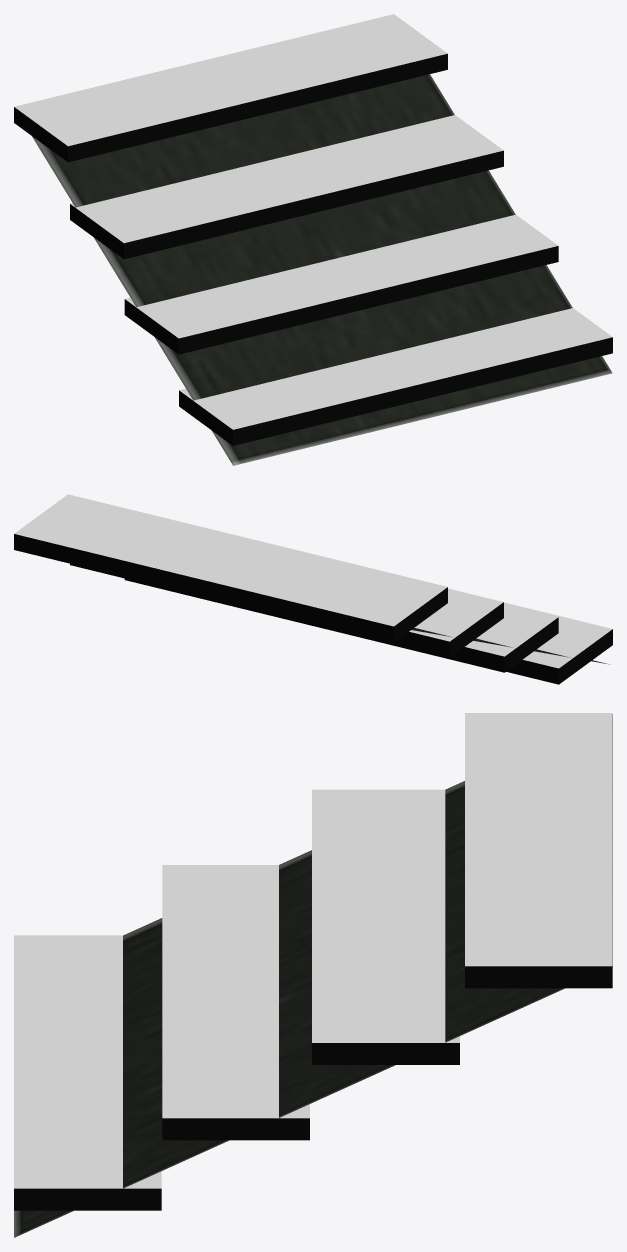
The model's file is CubeBaseFrontStaircase2-1.fbx.
3 views of the same model, one above another, from view 1: azimuth 30°, elevation 25°; view 2: azimuth 150°, elevation 25°; view 3: azimuth 270°, elevation 25° (orthographic). The views are drawn at different scales.
Parts seen in each view (by area): view 1: pCube1, pCube2, pCube8, pCube9, pCube10; view 2: pCube2, pCube8, pCube9, pCube10, pCube1; view 3: pCube2, pCube8, pCube9, pCube10, pCube1.
Part boxes in pixels (x1=…): pCube1: x1=32, y1=74, x2=612, y2=465; pCube2: x1=14, y1=14, x2=447, y2=162; pCube8: x1=70, y1=115, x2=503, y2=259; pCube9: x1=124, y1=214, x2=558, y2=354; pCube10: x1=179, y1=308, x2=612, y2=445; pCube2: x1=14, y1=494, x2=447, y2=642; pCube8: x1=70, y1=563, x2=503, y2=657; pCube9: x1=124, y1=578, x2=558, y2=672; pCube10: x1=504, y1=602, x2=612, y2=684; pCube1: x1=411, y1=628, x2=609, y2=664; pCube2: x1=465, y1=713, x2=612, y2=988; pCube8: x1=312, y1=789, x2=459, y2=1064; pCube9: x1=162, y1=865, x2=309, y2=1140; pCube10: x1=14, y1=935, x2=161, y2=1210; pCube1: x1=14, y1=714, x2=612, y2=1237.
Size of the model in its own units: 1 by 0.5007 by 1.
3 materials, 1 textured.
